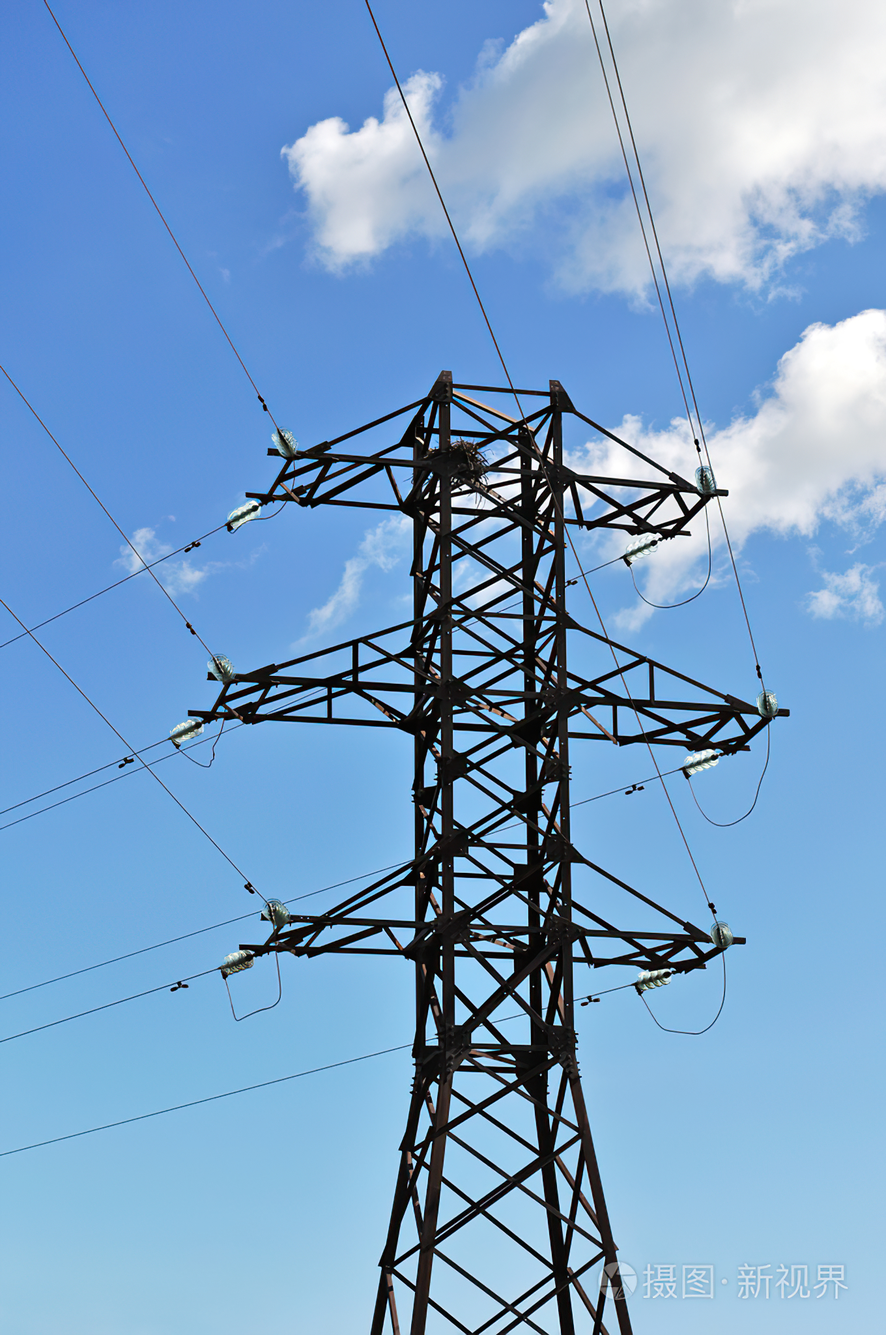insulator: (221, 948, 260, 981), (226, 501, 264, 533), (682, 748, 723, 776), (202, 656, 237, 687), (627, 536, 663, 566), (166, 714, 197, 748), (263, 897, 294, 931), (271, 429, 298, 463), (694, 467, 722, 499), (639, 967, 669, 993), (707, 918, 731, 950), (757, 691, 777, 722)
